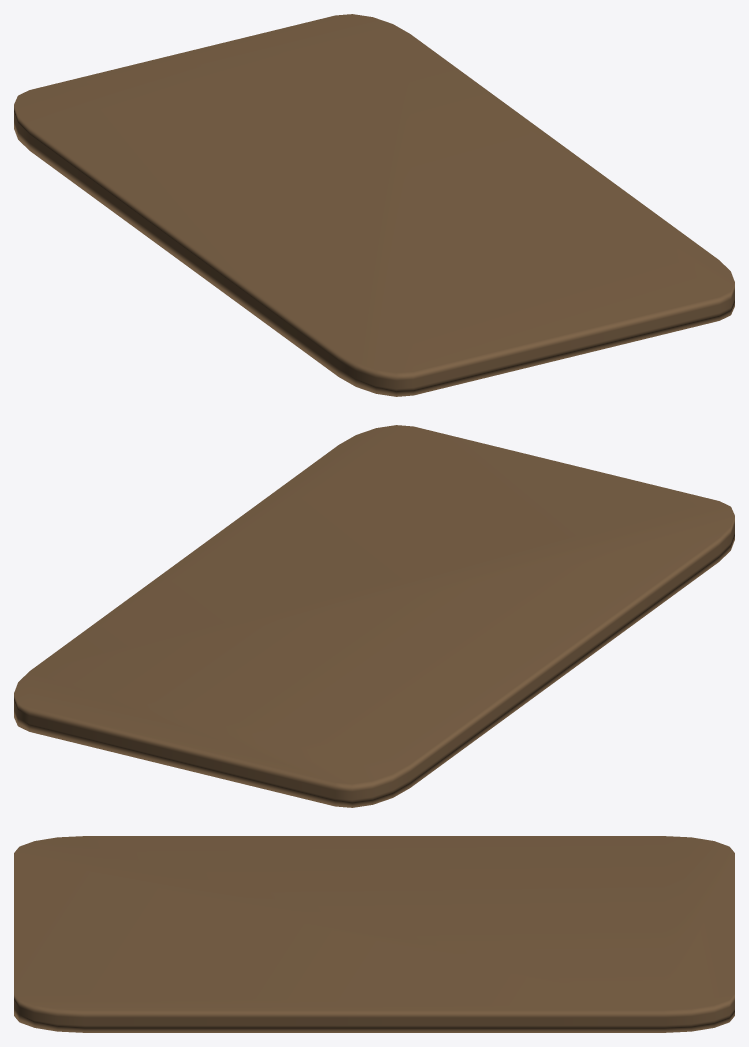
Rendered from cuttingBoard.fbx.
The picture shows the model from 3 angles, top to bottom: view 1: azimuth 30°, elevation 25°; view 2: azimuth 150°, elevation 25°; view 3: azimuth 270°, elevation 25°; orthographic projection. The views are drawn at different scales.
Visible parts, largest first — view 1: Cube; view 2: Cube; view 3: Cube.
Boxes of the visible parts, x1,y1,x2,y2 form: Cube: (14, 14, 734, 396); Cube: (14, 425, 734, 807); Cube: (14, 836, 734, 1032).
Size of the model in its own units: 949 by 57.48 by 1659.
